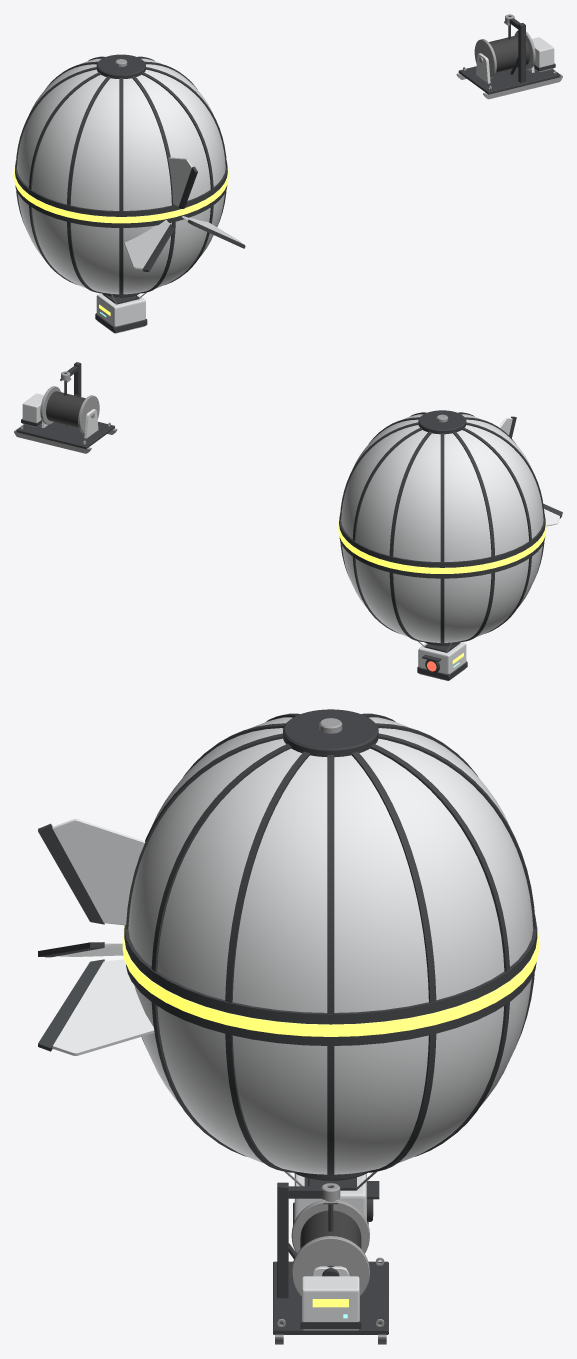
File: spotter.glb
3 renders of one model, top to bottom at view 1: azimuth 30°, elevation 25°; view 2: azimuth 150°, elevation 25°; view 3: azimuth 270°, elevation 25°, orthographic. The views are drawn at different scales.
Visible parts, largest first — view 1: envelope, winch, gondola; view 2: envelope, winch, gondola; view 3: envelope, winch, gondola.
Part boxes in pixels (bbox=[...]): envelope: bbox=[14, 54, 245, 297]; winch: bbox=[456, 14, 562, 99]; gondola: bbox=[95, 292, 147, 333]; envelope: bbox=[338, 410, 562, 645]; winch: bbox=[14, 362, 117, 453]; gondola: bbox=[417, 641, 467, 680]; envelope: bbox=[38, 709, 538, 1180]; winch: bbox=[273, 1182, 388, 1344]; gondola: bbox=[284, 1171, 376, 1224].
Size of what is drawn, in the model's own units: 8.04 by 3.98 by 3.46.
